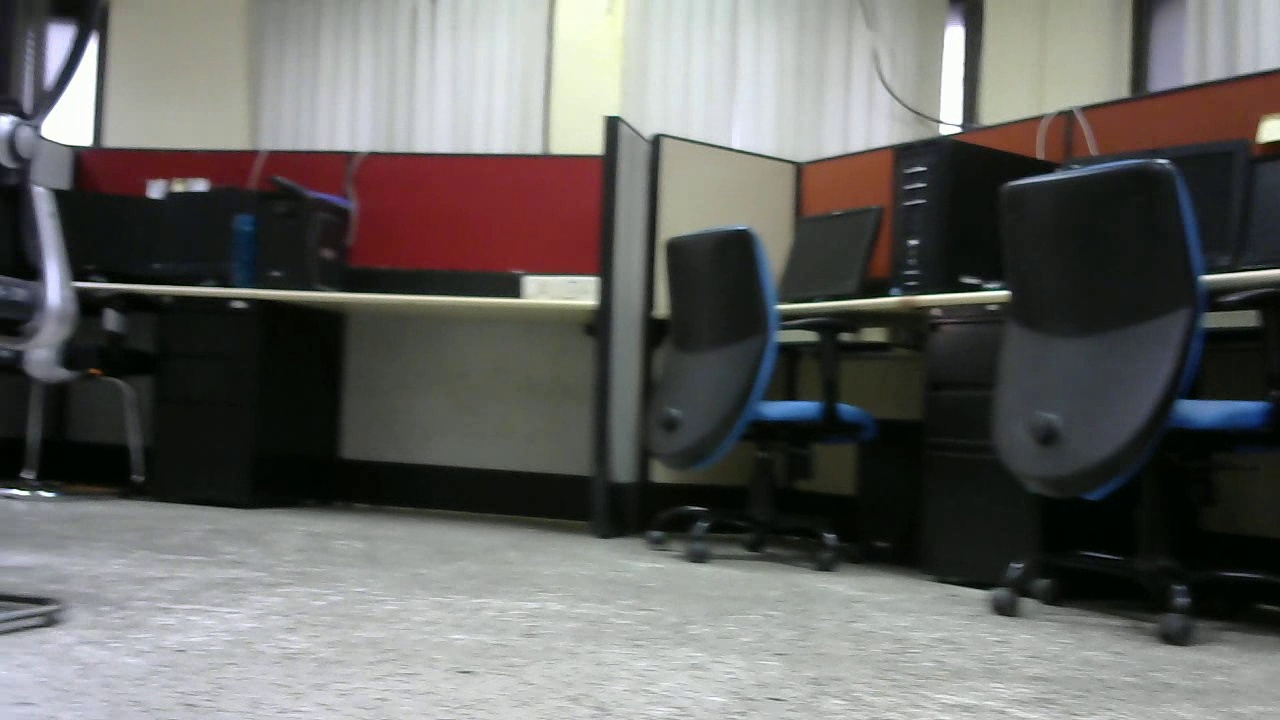chair: (988, 154, 1280, 651), (617, 217, 880, 578)
